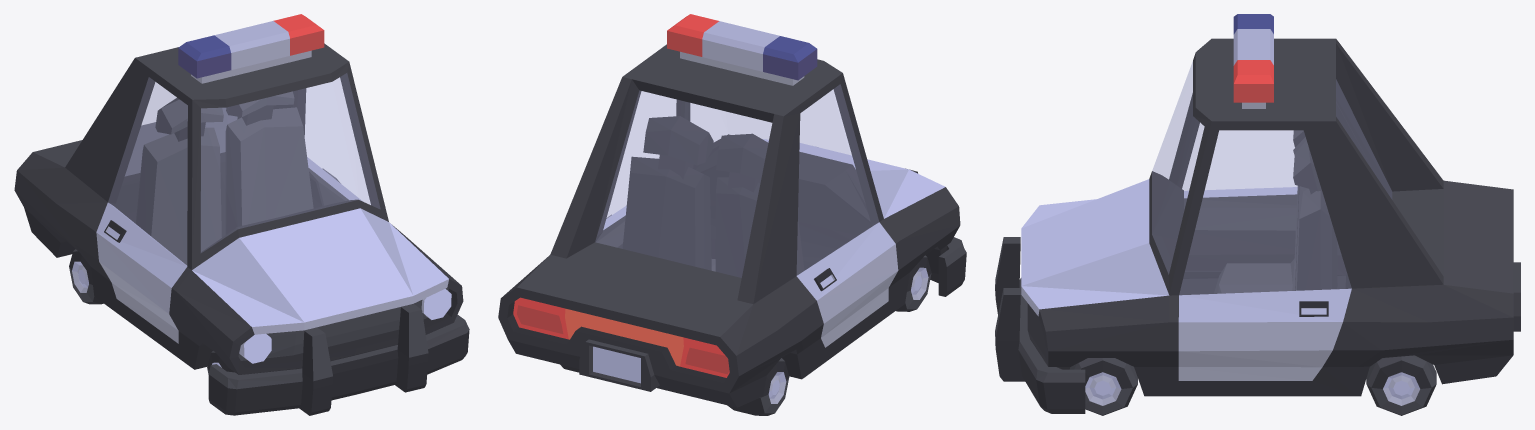
The model's file is cruiser-command-center.glb.
The picture shows the model from 3 angles, left to right: view 1: azimuth 30°, elevation 25°; view 2: azimuth 150°, elevation 25°; view 3: azimuth 270°, elevation 25°; orthographic projection. The views are drawn at different scales.
Parts seen in each view (by area): view 1: Car03_1_Police, Car03_1_DR.001, Car03_1_AdF.001, Car03_1_Police_AdT, Car03_1_DL.001, Car03_1_WhBR.001; view 2: Car03_1_Police, Car03_1_DR.001, Car03_1_Police_AdT, Car03_1_DL.001, Car03_1_WhBR.001, Car03_1_AdF.001, Car03_1_WhFR.001; view 3: Car03_1_Police, Car03_1_DL.001, Car03_1_DR.001, Car03_1_AdF.001, Car03_1_Police_AdT, Car03_1_WhBL.001, Car03_1_WhFL.001.
Part boxes in pixels (<box>): Car03_1_Police: <box>14,43,463,374</box>; Car03_1_DR.001: <box>96,77,187,343</box>; Car03_1_AdF.001: <box>208,304,469,415</box>; Car03_1_Police_AdT: <box>178,14,324,83</box>; Car03_1_DL.001: <box>305,78,370,205</box>; Car03_1_WhBR.001: <box>69,249,103,304</box>; Car03_1_Police: <box>498,44,960,407</box>; Car03_1_DR.001: <box>796,84,898,347</box>; Car03_1_Police_AdT: <box>667,14,817,85</box>; Car03_1_DL.001: <box>596,91,675,248</box>; Car03_1_WhBR.001: <box>727,358,789,415</box>; Car03_1_AdF.001: <box>905,168,966,296</box>; Car03_1_WhFR.001: <box>896,255,931,311</box>; Car03_1_Police: <box>1021,38,1520,396</box>; Car03_1_DL.001: <box>1178,130,1351,380</box>; Car03_1_DR.001: <box>1182,123,1297,270</box>; Car03_1_AdF.001: <box>995,237,1085,413</box>; Car03_1_Police_AdT: <box>1233,14,1273,108</box>; Car03_1_WhBL.001: <box>1366,355,1436,415</box>; Car03_1_WhFL.001: <box>1069,358,1137,415</box>.
Size of the model in its own units: 2.82 by 3.32 by 4.91.
6 materials, 6 textured.
